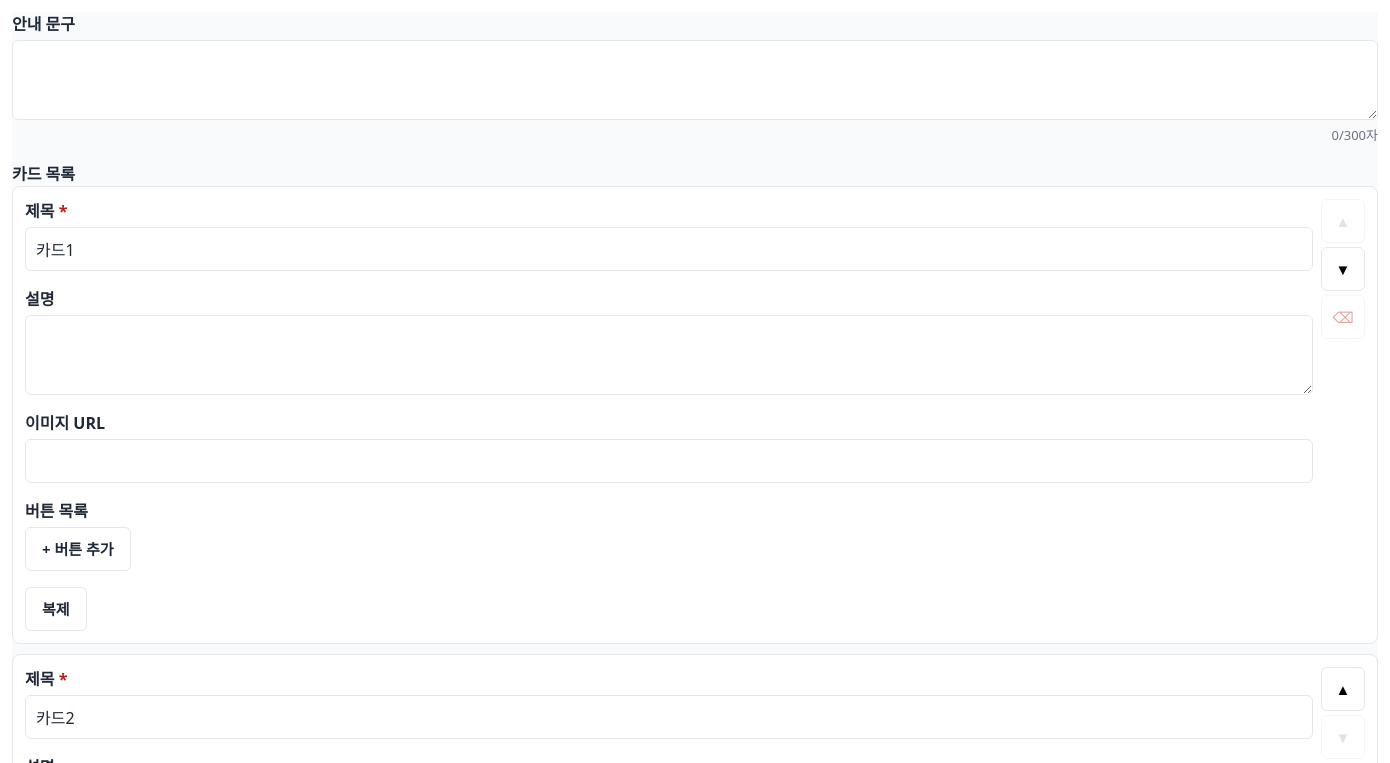
Scenario: CarouselOutputEditor — 카드 버튼 LINK는 https 전용 검사를 받는다(carousel 카드 버튼, §3.1) › 카드 버튼 LINK에 http 주소를 넣으면 인라인 오류가 뜬다
The image size is (1390, 763).
Click the button "+ 버튼 추가" at (78, 548), box [25, 526, 131, 570]
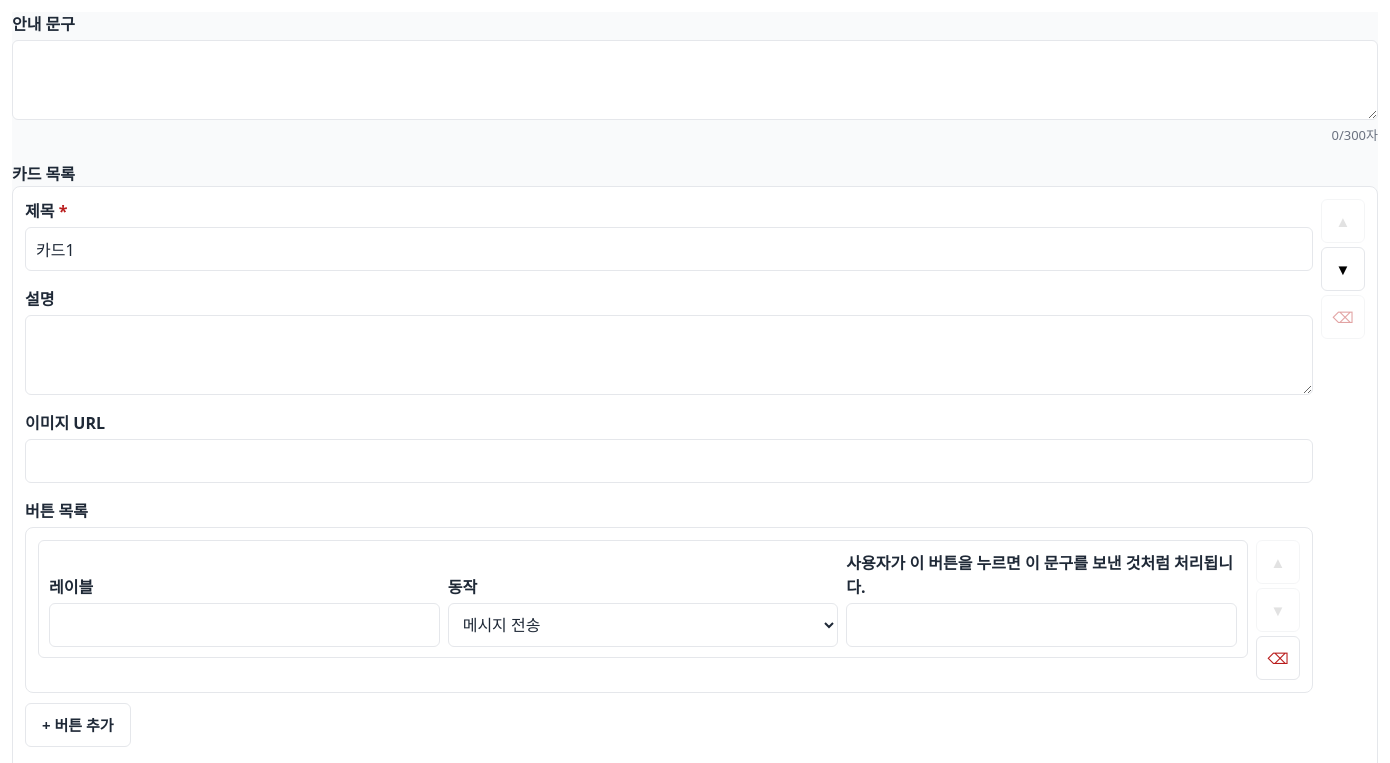
Select "링크 열기" in the dropdown labelled "동작" at (643, 624), box [448, 602, 838, 646]
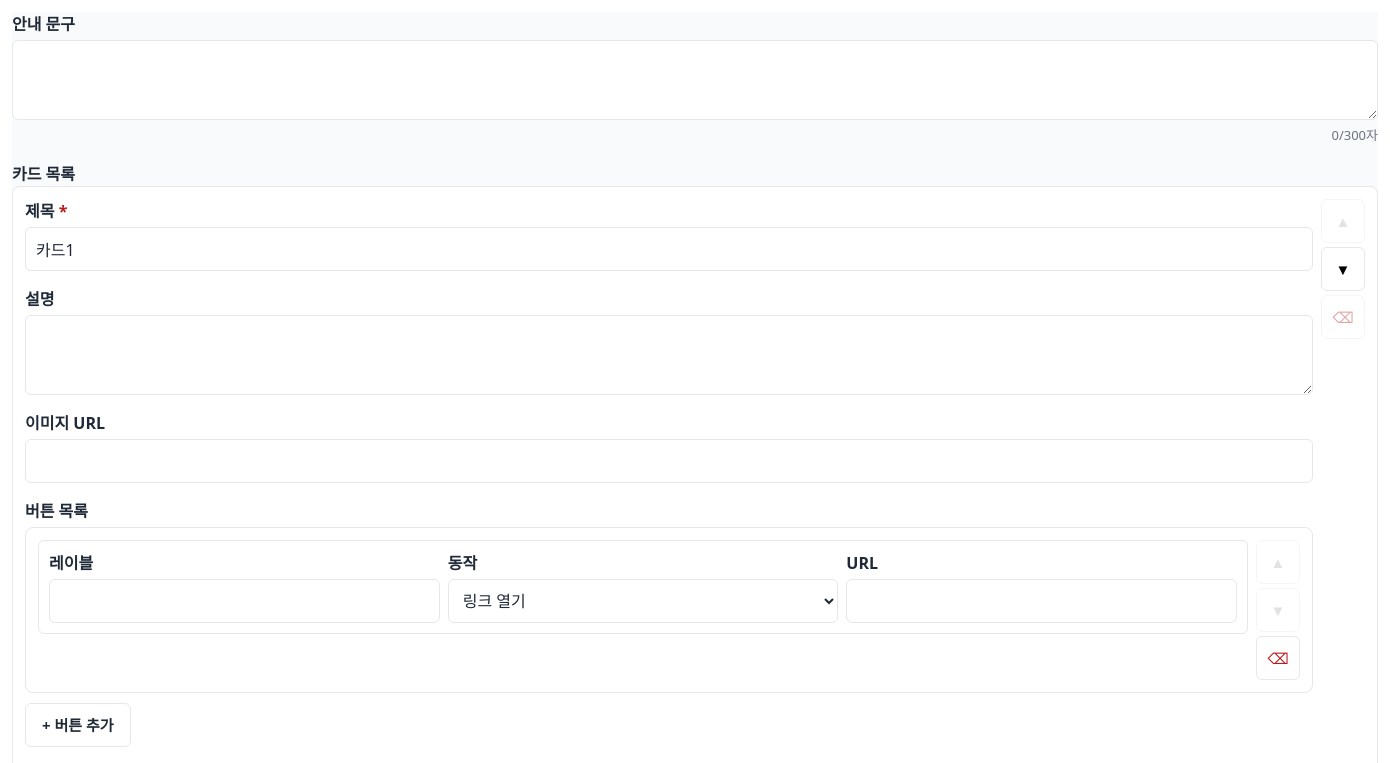
Type "http://example.com" into the field labelled "URL" at (1042, 600), box [846, 578, 1237, 622]
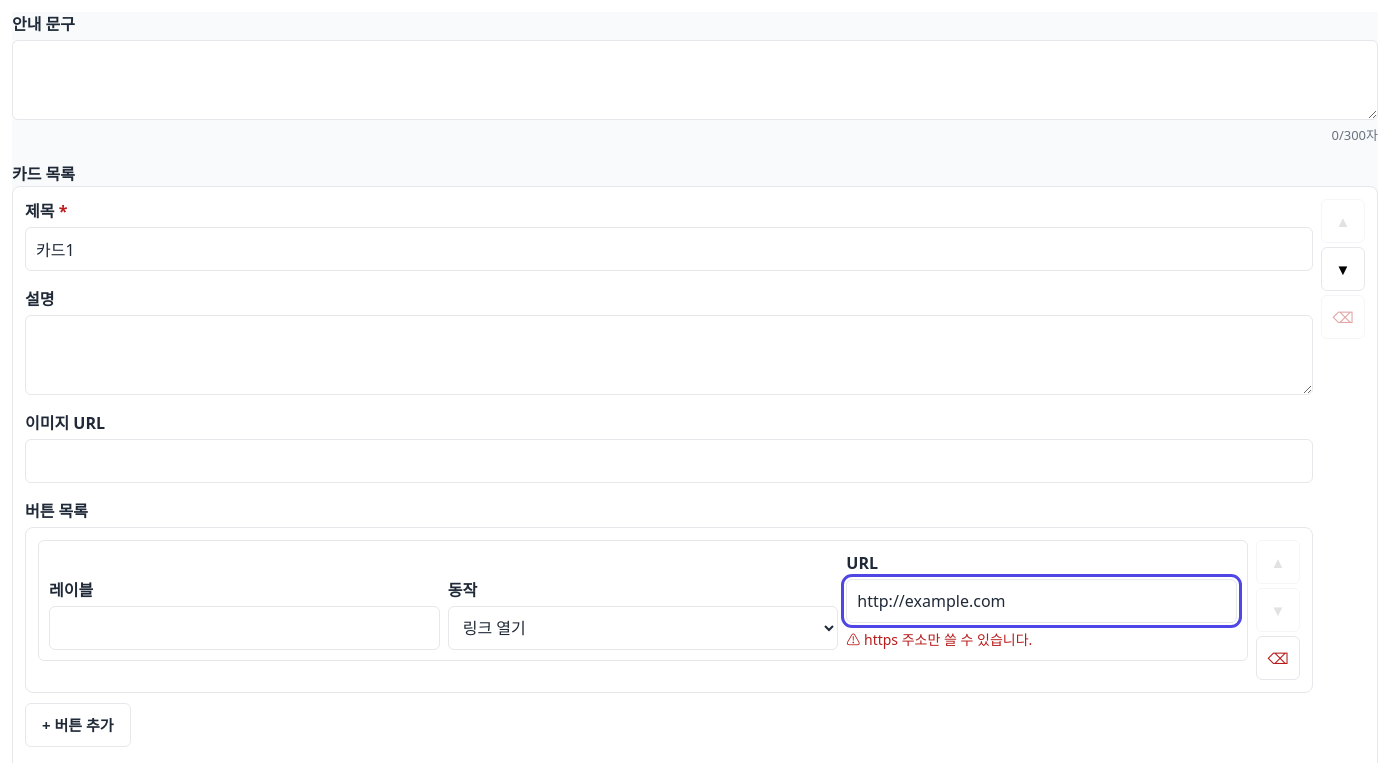
Result: the text "https 주소만 쓸 수 있습니다." is shown at [864, 630, 1032, 648]
